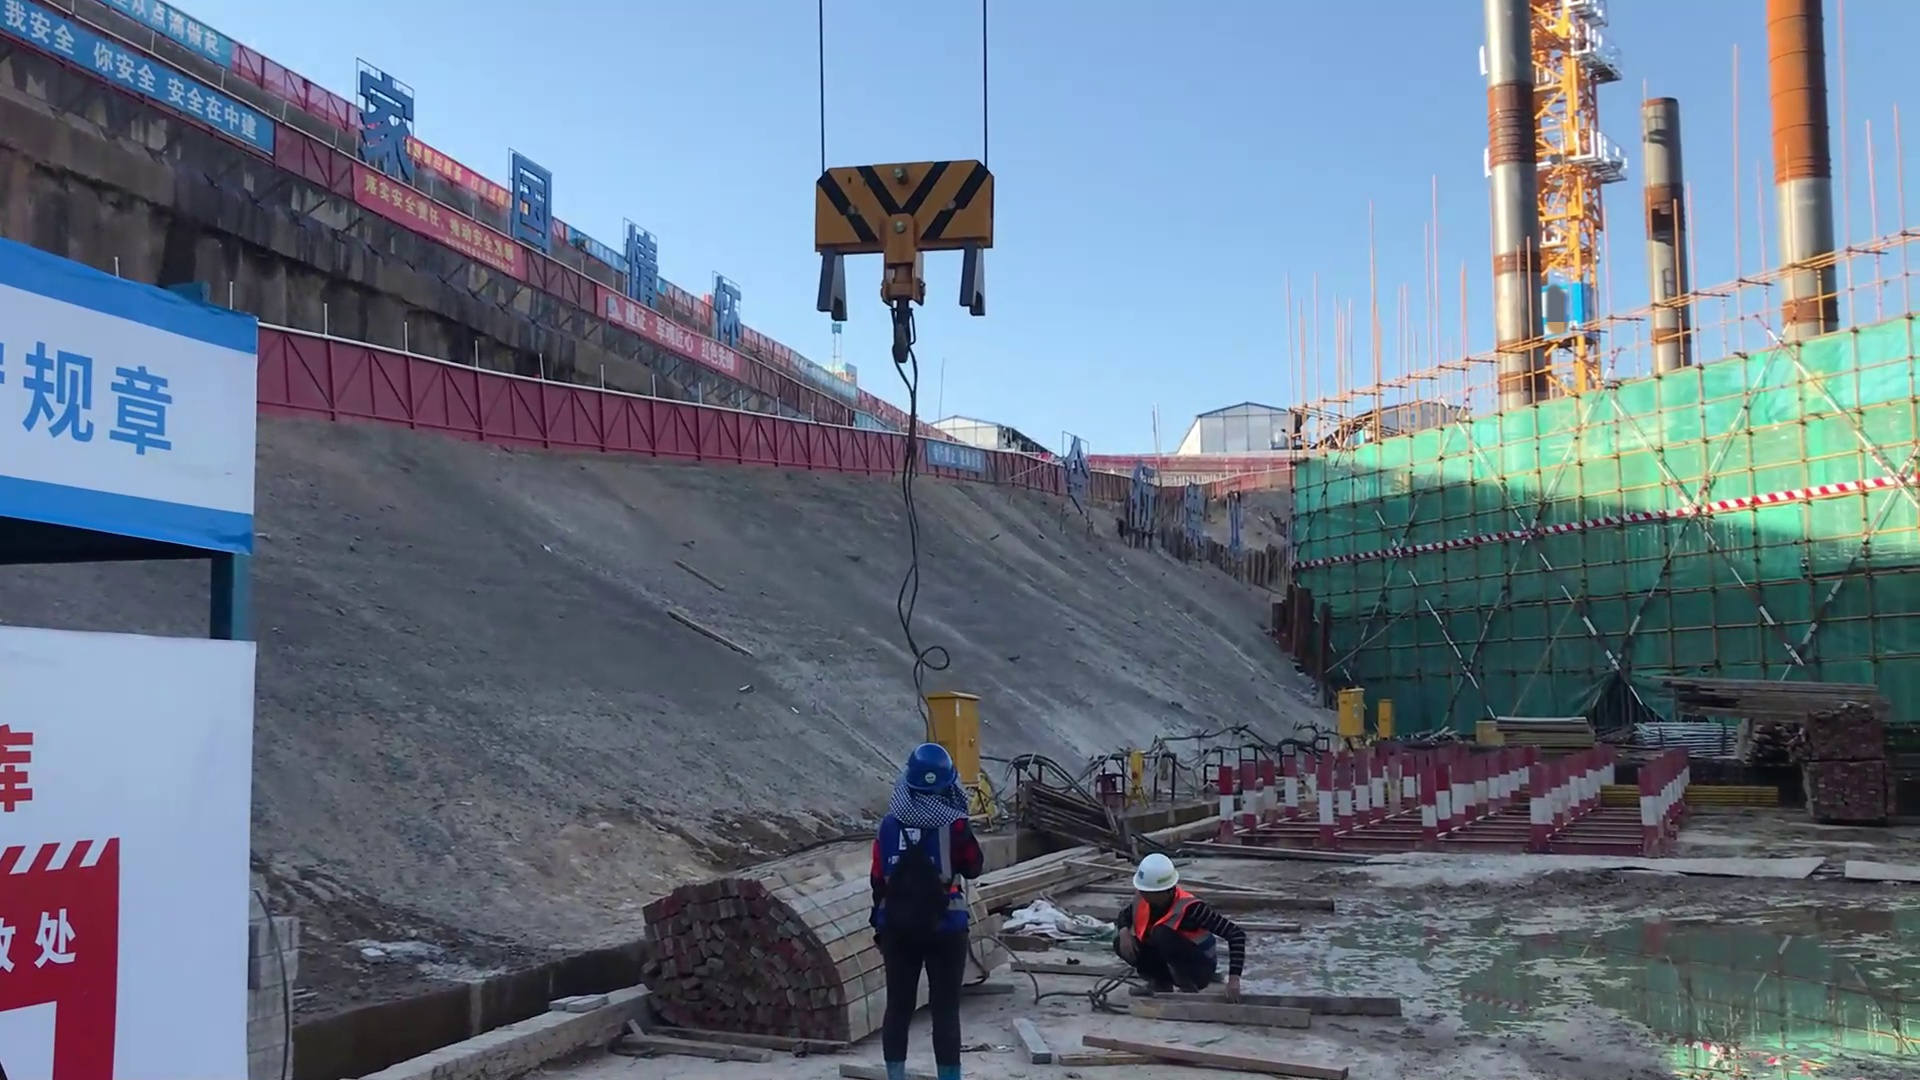ebox: (921, 686, 985, 797), (1336, 679, 1369, 745), (1375, 694, 1392, 739)
fence: (254, 338, 629, 459), (622, 412, 892, 472), (895, 434, 1077, 493)
helmet: (907, 743, 955, 792), (1132, 850, 1179, 893)
hook: (811, 150, 1003, 323)
person: (870, 740, 988, 1080), (1101, 850, 1247, 1003)
slogan: (1, 271, 206, 511), (1, 12, 254, 165), (278, 168, 512, 312)
vest: (1122, 890, 1207, 949)
wood: (637, 853, 877, 1063), (1648, 664, 1880, 733)
